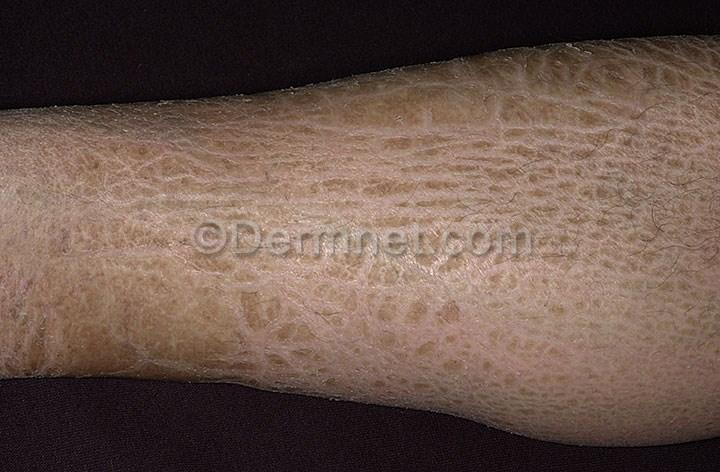liquenificacion 2: (0, 34, 719, 451)
xerosis 1: (0, 342, 719, 451)
xerosis 2: (0, 34, 719, 143)
